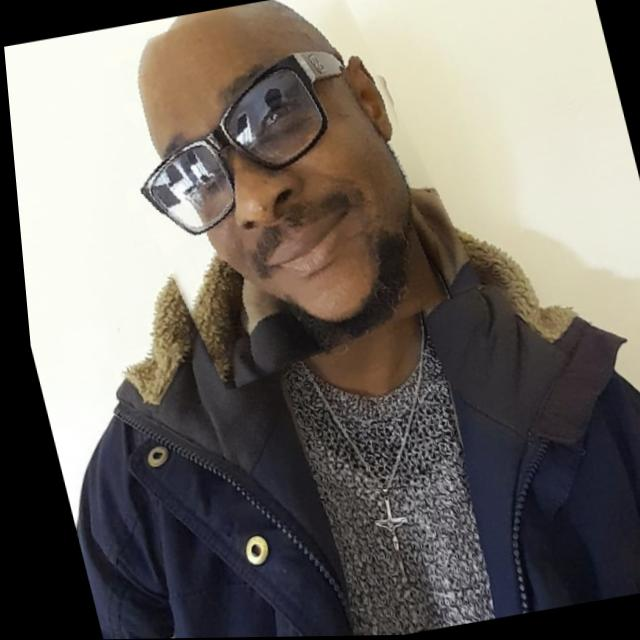happy: (78, 0, 473, 388)
